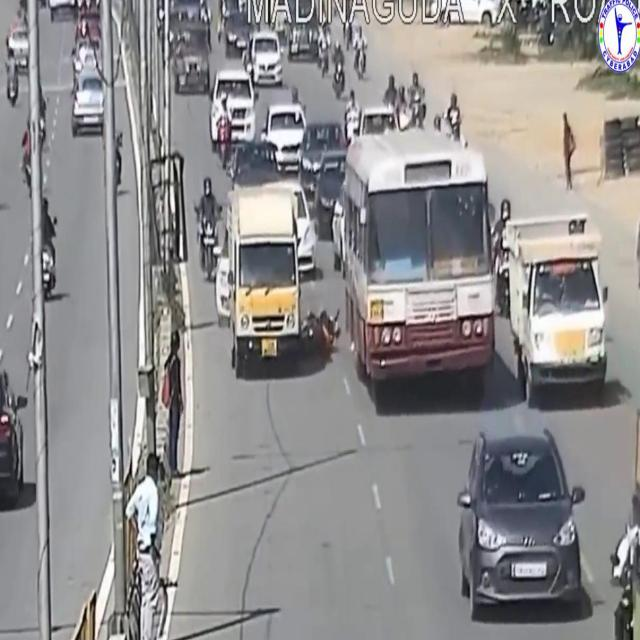accident: (212, 108, 344, 407)
non_accident: (160, 1, 304, 168), (41, 0, 105, 155)
